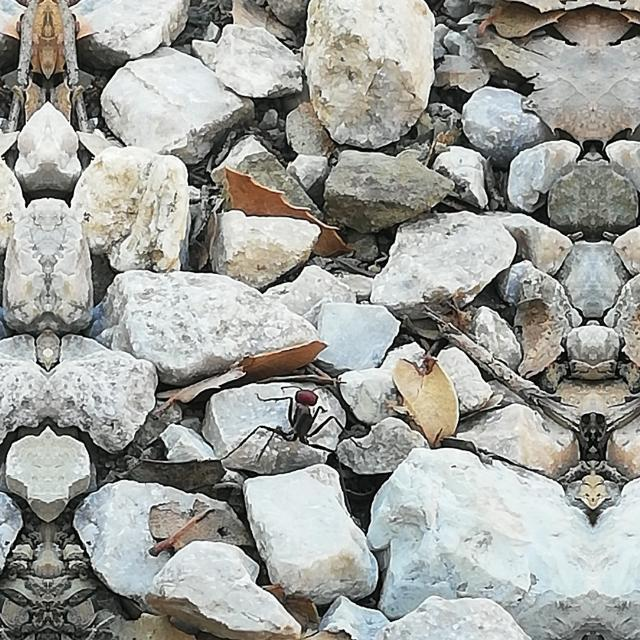Cataglyphis: (276, 381, 338, 447), (412, 328, 452, 382)
